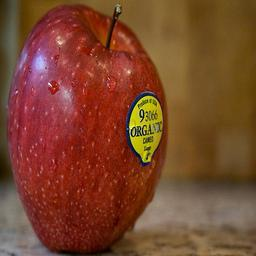apple: (4, 1, 172, 253)
